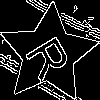R: (23, 29, 80, 83)
